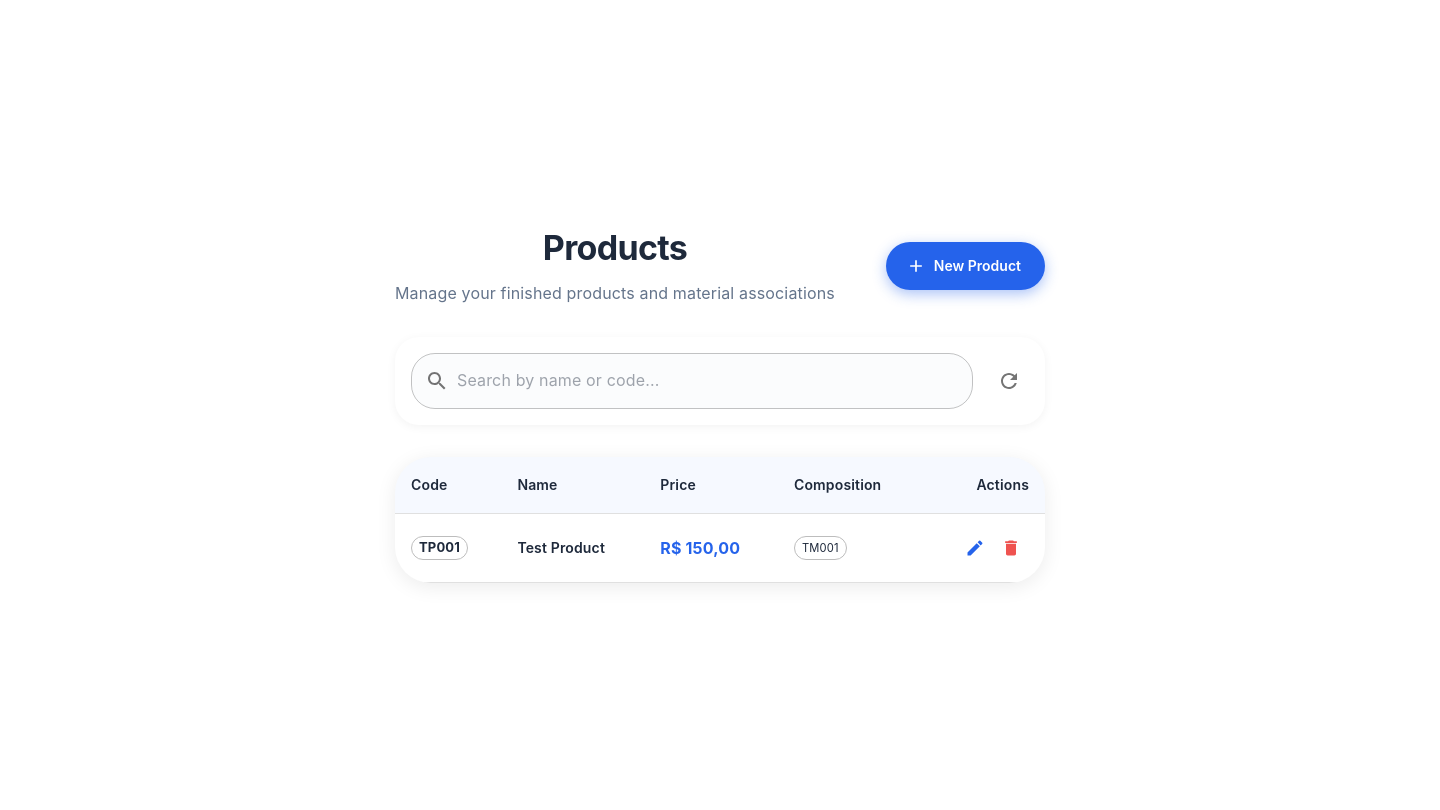
Test case: ProductsPage › opens edit dialog, modifies data and removes an associated material
This screenshot has width=1440, height=810.
Expected: the text "Test Product" is shown, [501,513,644,582]
Click the button with test id "EditIcon".
click(975, 548)  # box [957,530,993,566]
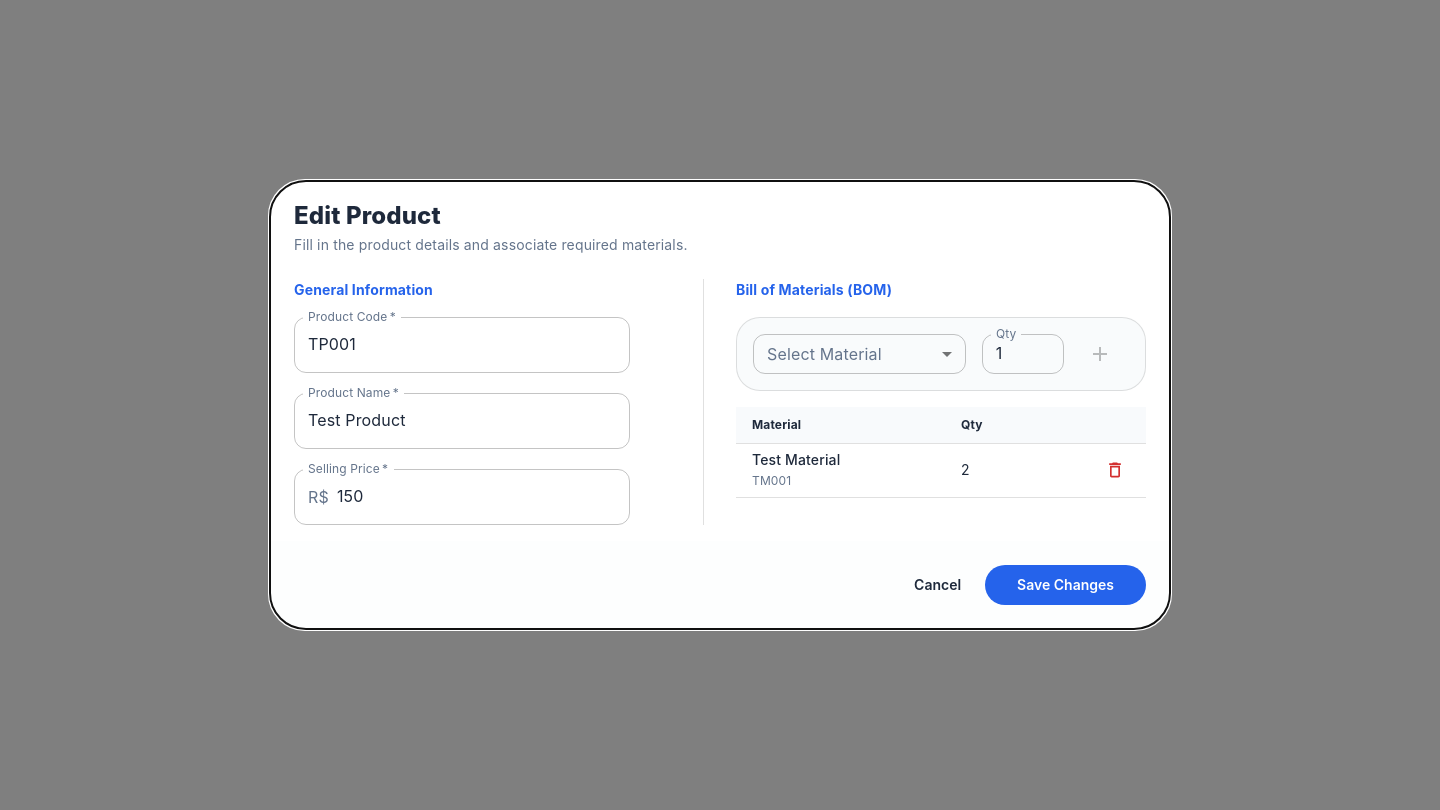
Now the heading "Edit Product" is shown, box [294,201,441,230]
Replace the text in the field labelled "Product Name *" with "Updated Product Name" at [462, 421], box [294,393,630,449]
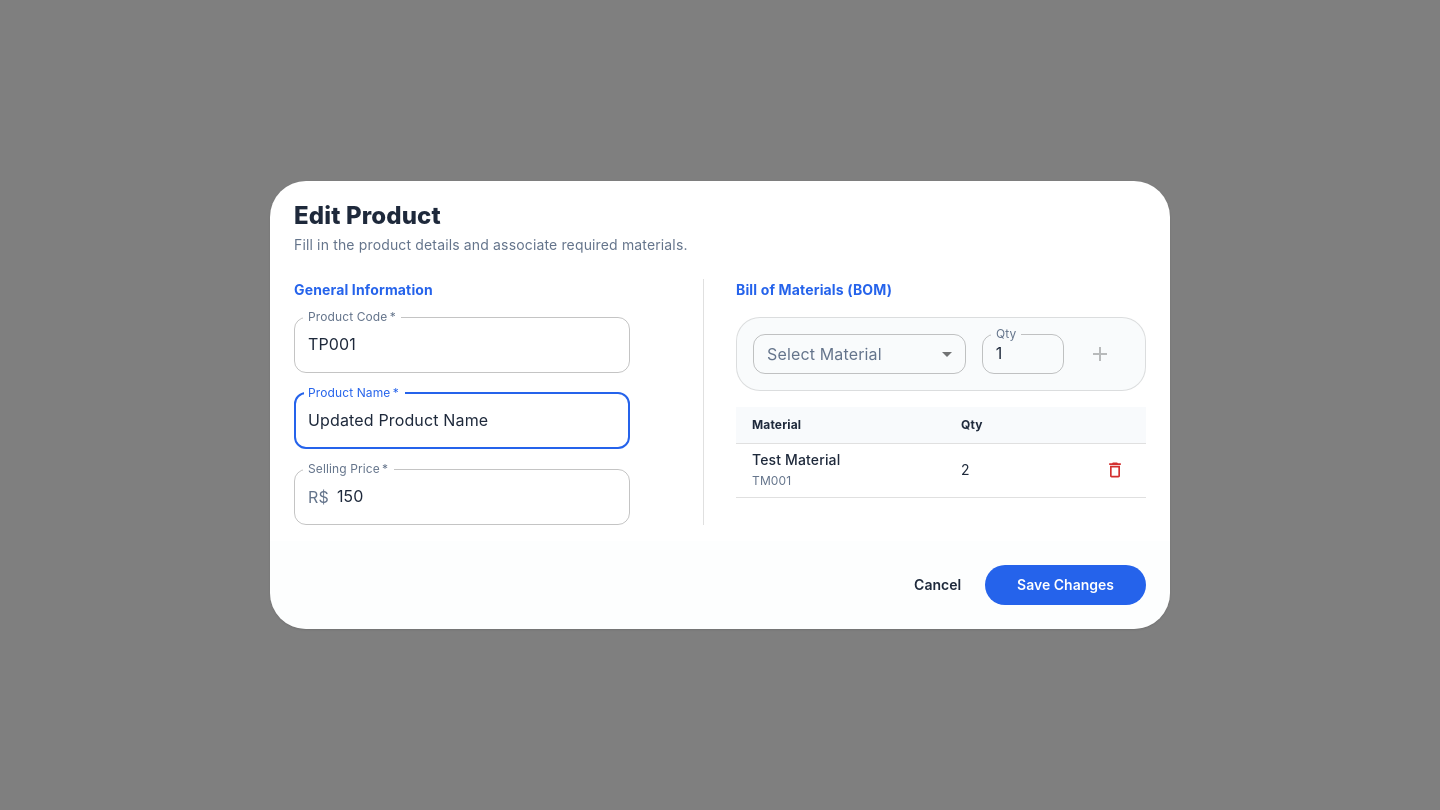
Now the text "Test Material" is shown, box [752,451,840,468]
Click the button with test id "DeleteOutlineIcon".
click(1115, 470)  # box [1100,455,1130,485]
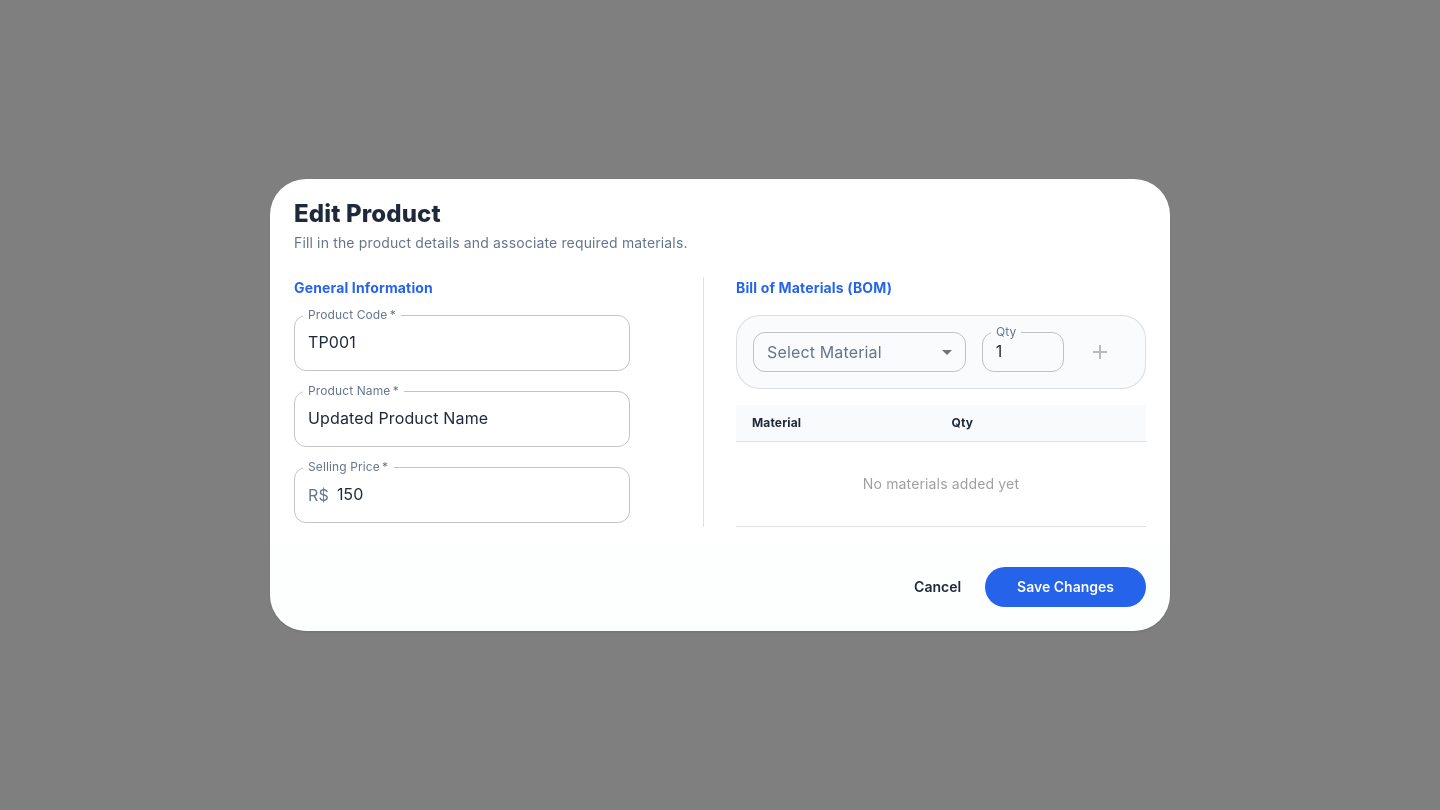
Now the text "No materials added yet" is shown, box [736,442,1146,527]
Click the button "Save Changes".
click(1066, 587)  # box [985,567,1146,607]
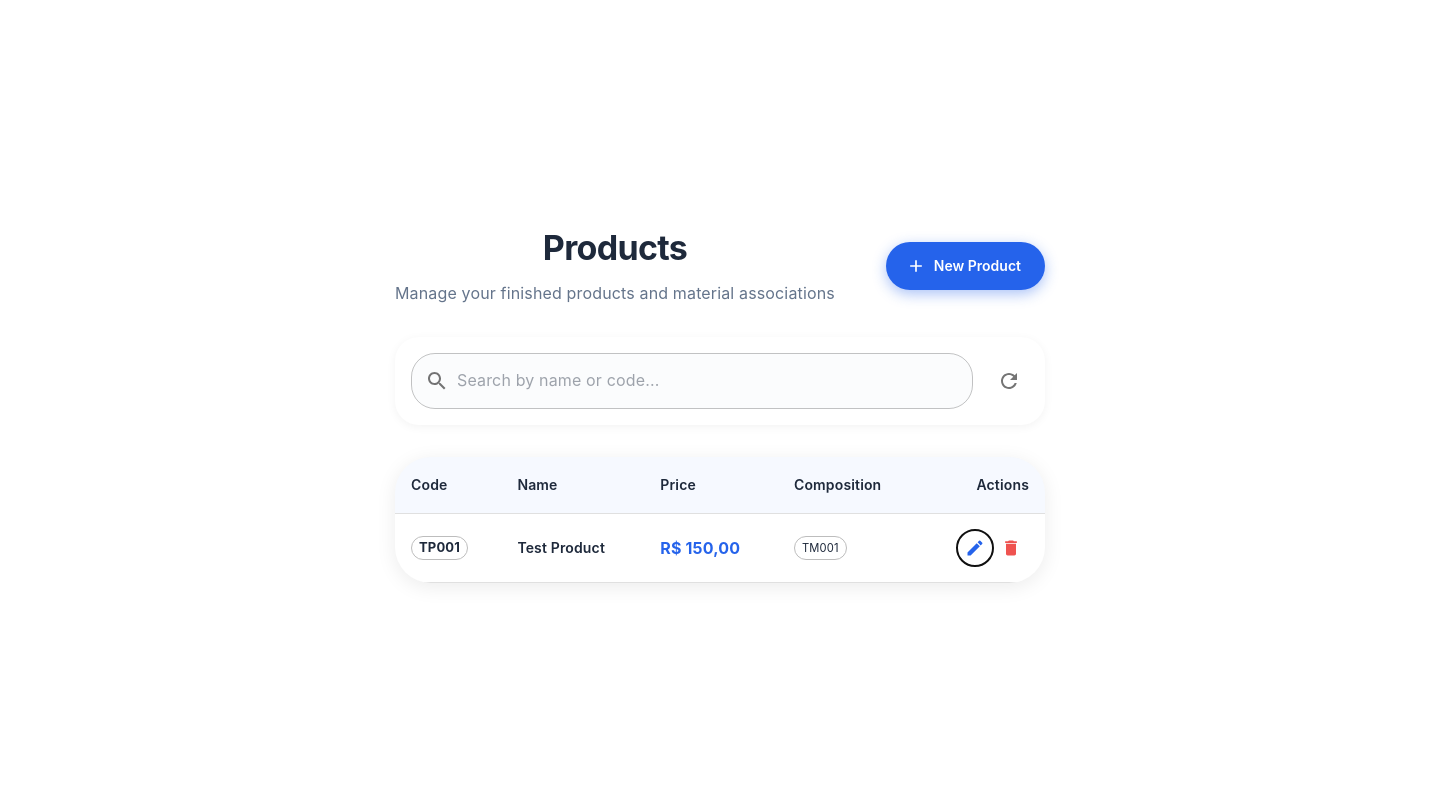
Now the dialog is gone
